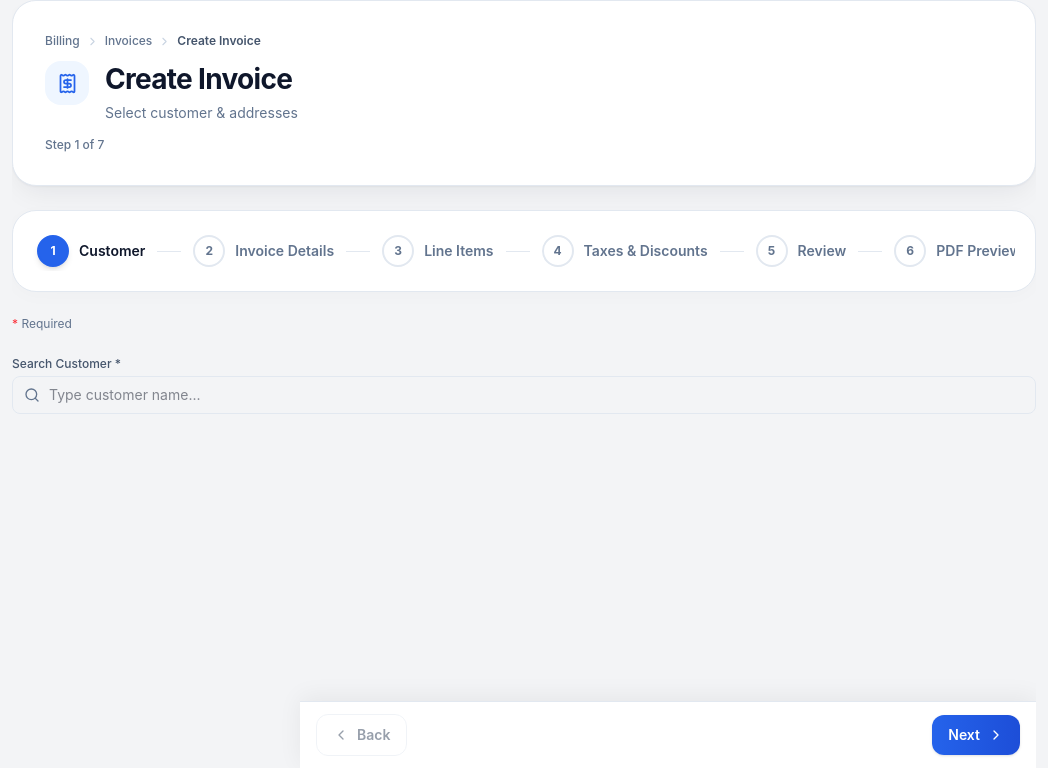
Test: CreateInvoiceWizard — validation blocks the money-creating action › does not advance past step 1 and never creates an invoice without a selected customer
Expected: the dropdown named "search customer" is shown, x1=12 y1=376 x2=1036 y2=414
Click the button "Next" at [976, 735], box x1=932 y1=715 x2=1020 y2=755
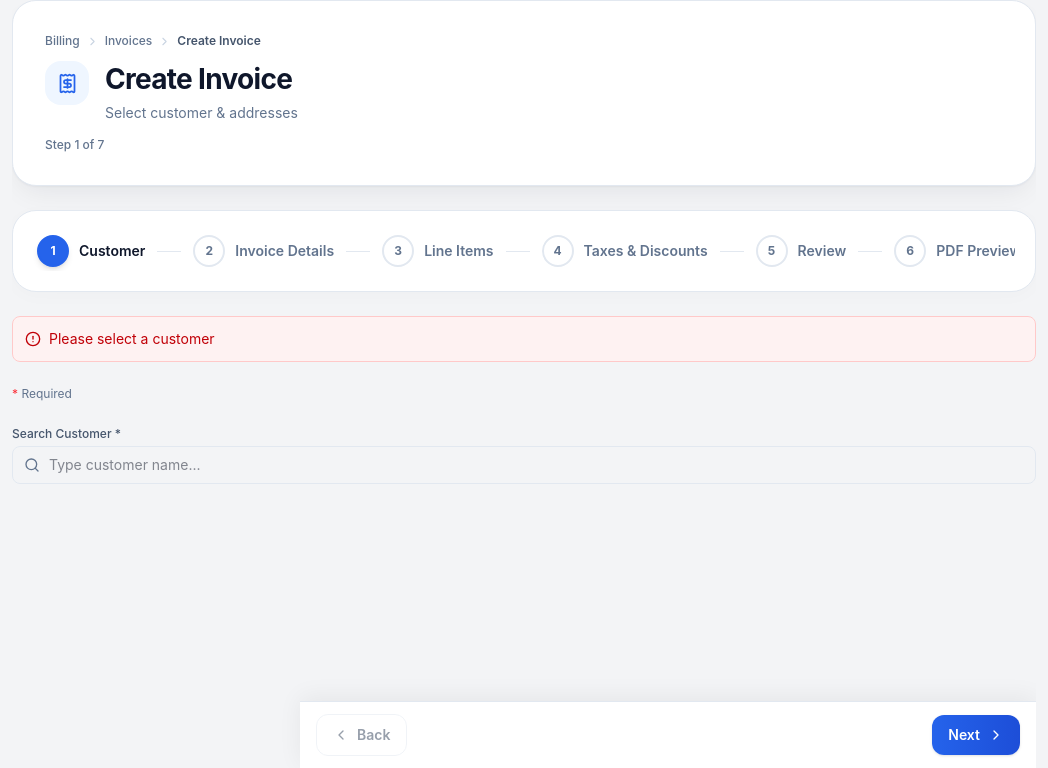
Expected: the dropdown named "search customer" is shown, x1=12 y1=446 x2=1036 y2=484
Now the message reads "Please select a customer", box x1=49 y1=330 x2=215 y2=347
